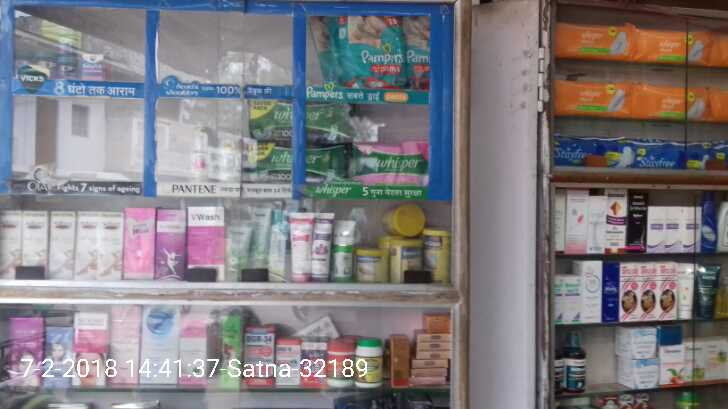pharmacy: (313, 7, 403, 89), (244, 93, 358, 142), (245, 139, 348, 186), (352, 139, 429, 187), (80, 51, 110, 86), (56, 56, 79, 85)
